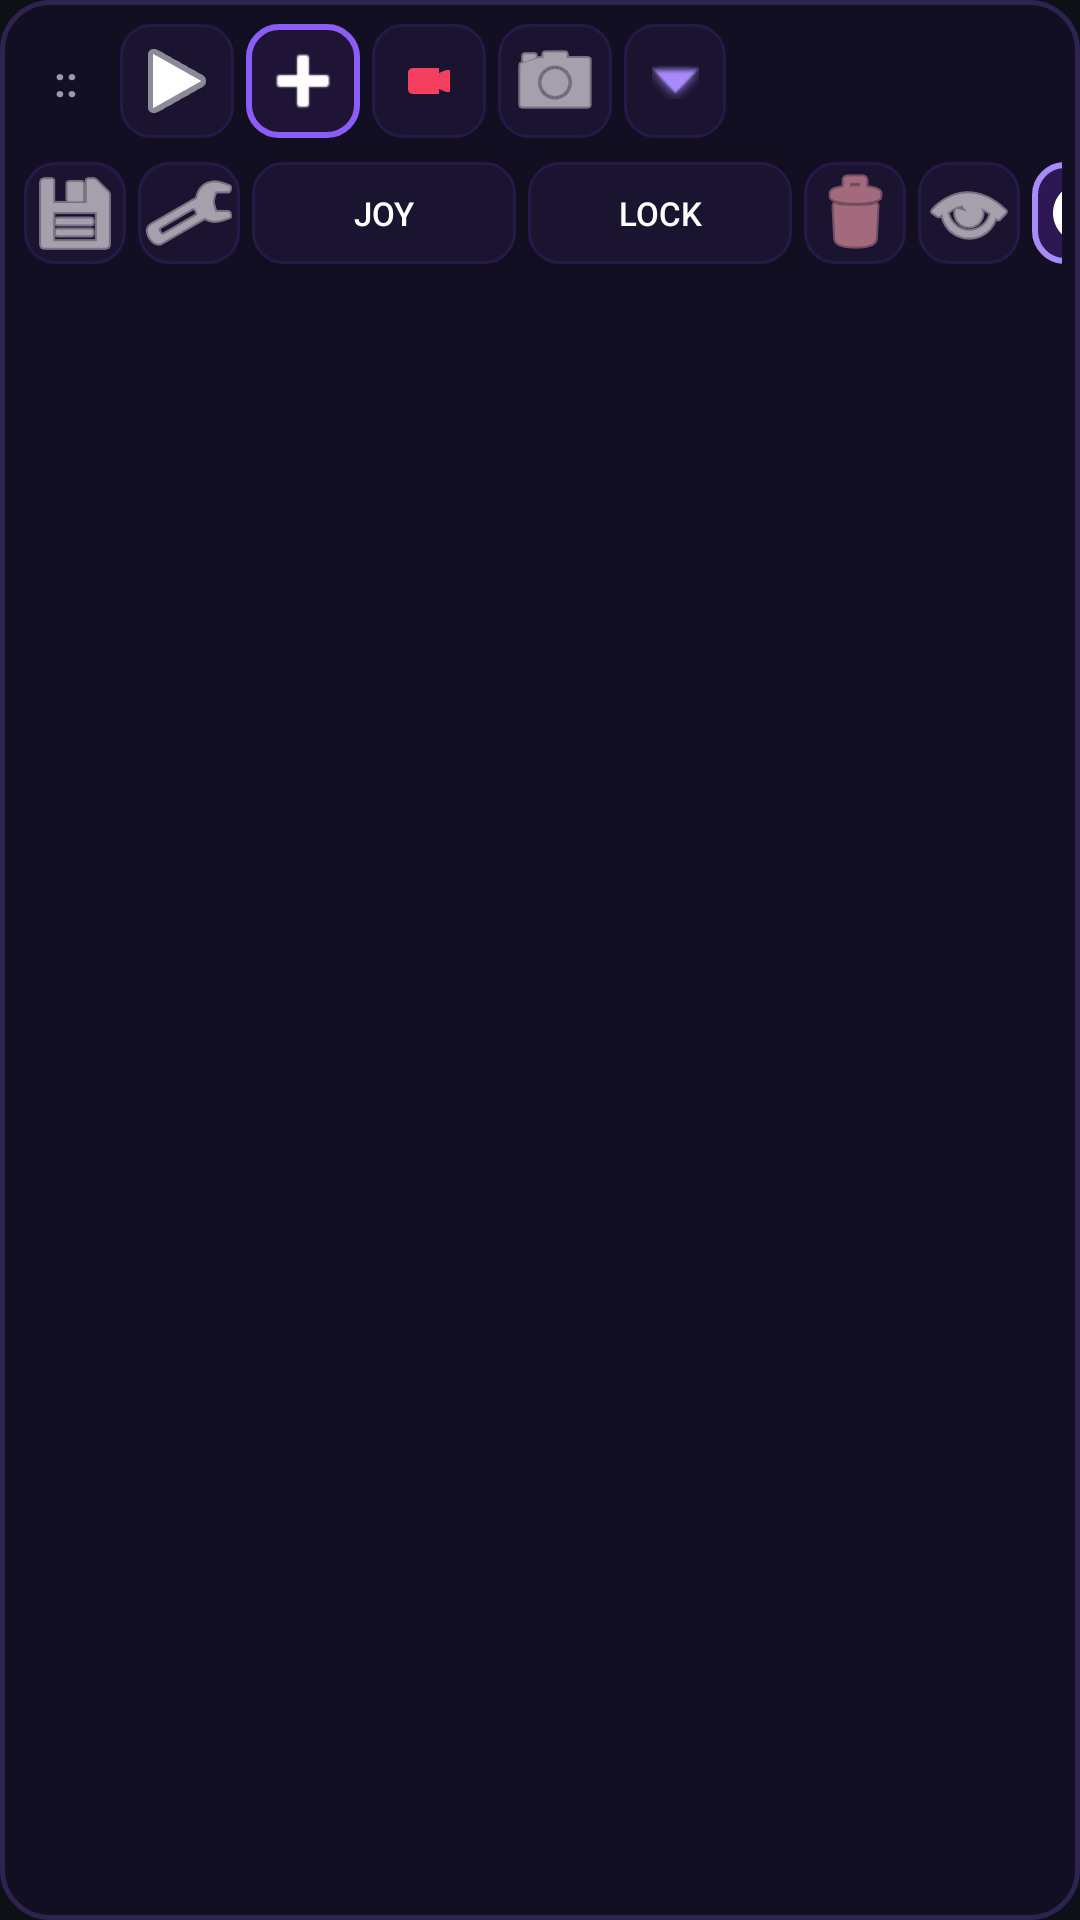

Where icons sit on this 1080 x 1920 app screen, as Rect(x1, y1, x2, y2):
Add: Rect(246, 24, 360, 138)
Capture: Rect(498, 24, 612, 138)
Clear: Rect(804, 162, 906, 264)
Hide Numbers: Rect(918, 162, 1020, 264)
Play: Rect(120, 24, 234, 138)
Record: Rect(372, 24, 486, 138)
Scripts: Rect(24, 162, 126, 264)
Settings: Rect(138, 162, 240, 264)
Toggle Menu: Rect(624, 24, 726, 138)
